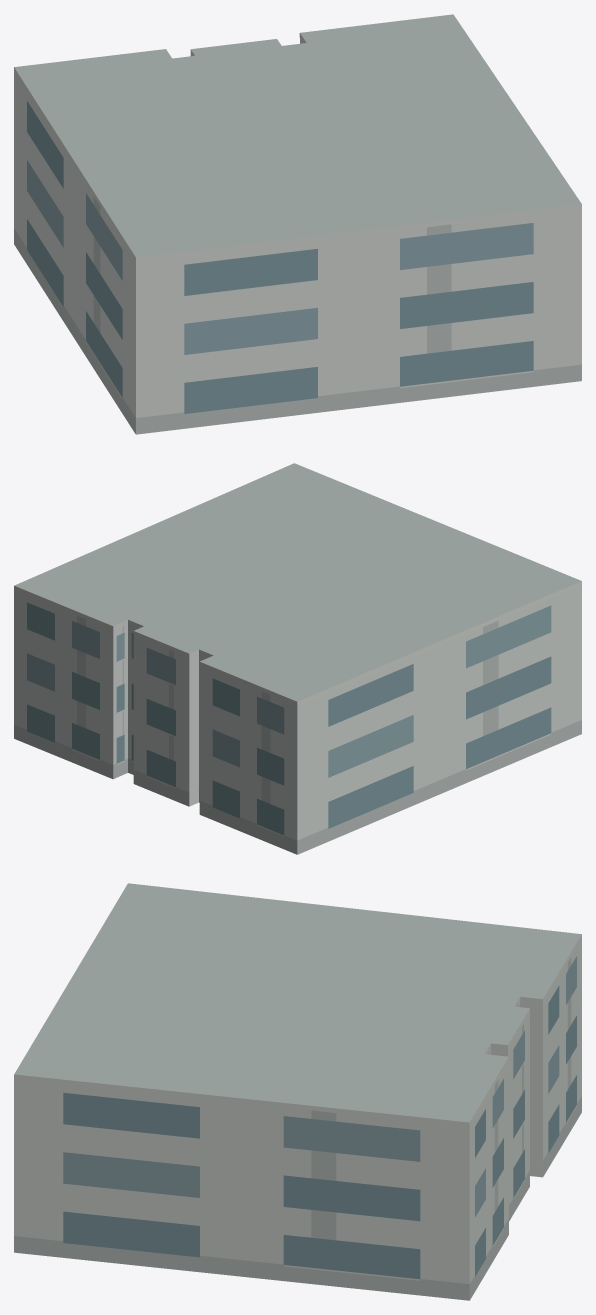
The model's file is survey-upis-32744924.glb.
The picture shows the model from 3 angles, top to bottom: view 1: azimuth 30°, elevation 25°; view 2: azimuth 150°, elevation 25°; view 3: azimuth 270°, elevation 25°; orthographic projection. The views are drawn at different scales.
Visible parts, largest first — view 1: survey-upis-32744924.tmp; view 2: survey-upis-32744924.tmp; view 3: survey-upis-32744924.tmp.
Part boxes in pixels (<box>): survey-upis-32744924.tmp: <box>14,14,581,434</box>; survey-upis-32744924.tmp: <box>14,463,581,854</box>; survey-upis-32744924.tmp: <box>14,883,581,1300</box>.
Bounding box in the file's own units: 26.36 × 9.15 × 26.43.
